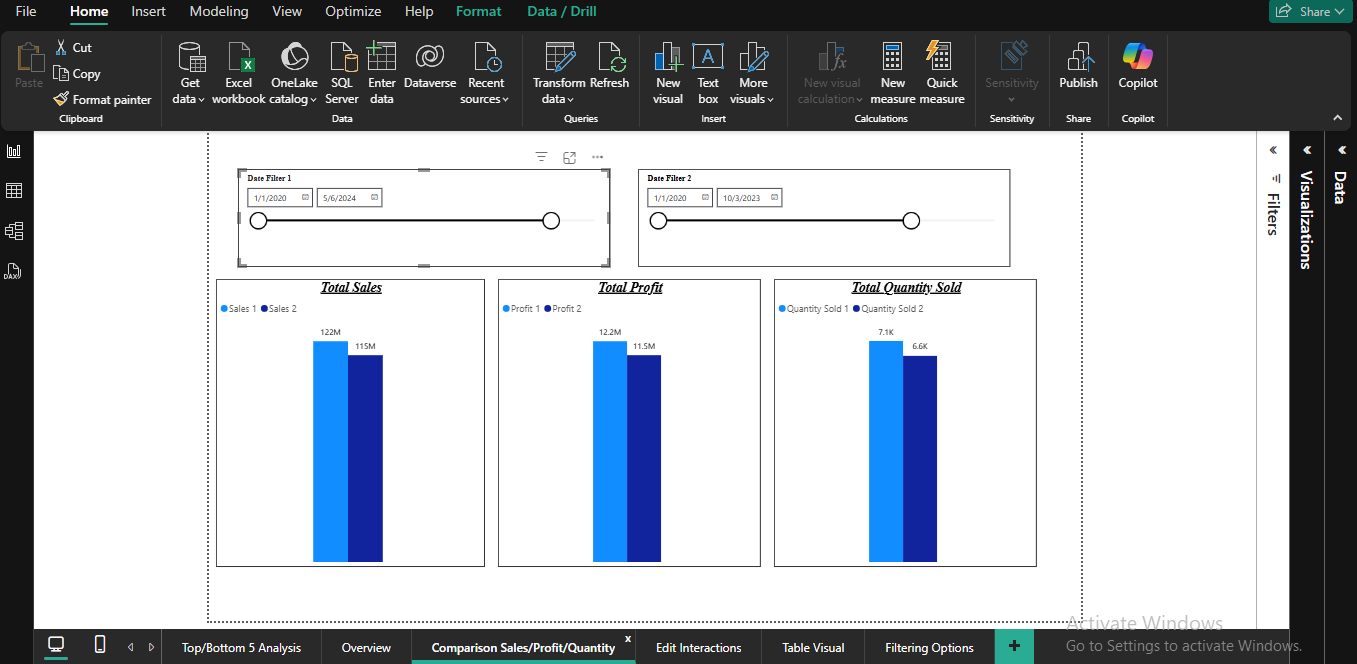

The page's visual inventory and layout, read from the dashboard file:
{"tool":"powerbi","page":{"name":"Comparison Sales/Profit/Quantity","canvas":[1280,720],"ordinal":2},"visuals":[{"type":"slicer","fields":{"Values":["Date Table 1.Date"]},"box":[0,55.8,546.6,144],"z":0},{"type":"slicer","fields":{"Values":["Date Table 2.Date"]},"box":[601,55.8,546.6,144],"z":1},{"type":"clusteredColumnChart","title":"Total Sales","fields":{"Y":["Sum(Fact Table.Net Sales)","Date Table 1.Sum of Net Sales"]},"box":[10.3,217.5,395.3,423.2],"z":2},{"type":"clusteredColumnChart","title":"Total Profit","fields":{"Y":["Sum(Fact Table.Profit)","Measure Table.Total profit"]},"box":[424.7,217.5,386.4,423.2],"z":3},{"type":"clusteredColumnChart","title":"Total Quantity Sold","fields":{"Y":["Sum(Fact Table.Units Sold)","Measure Table.Total Quantity Sold"]},"box":[830.2,217.5,386.4,423.2],"z":4}]}

Visuals, with their boxes on the page's 1280x720 design canvas (x1, y1, x2, y2). These are canvas units, not pixel positions in the 1357x664 screenshot, which may show the page scaled, cropped or inside an application window:
slicer - Date Table 1.Date: detection(0, 56, 547, 200)
slicer - Date Table 2.Date: detection(601, 56, 1148, 200)
"Total Sales" clusteredColumnChart: detection(10, 218, 406, 641)
"Total Profit" clusteredColumnChart: detection(425, 218, 811, 641)
"Total Quantity Sold" clusteredColumnChart: detection(830, 218, 1217, 641)
